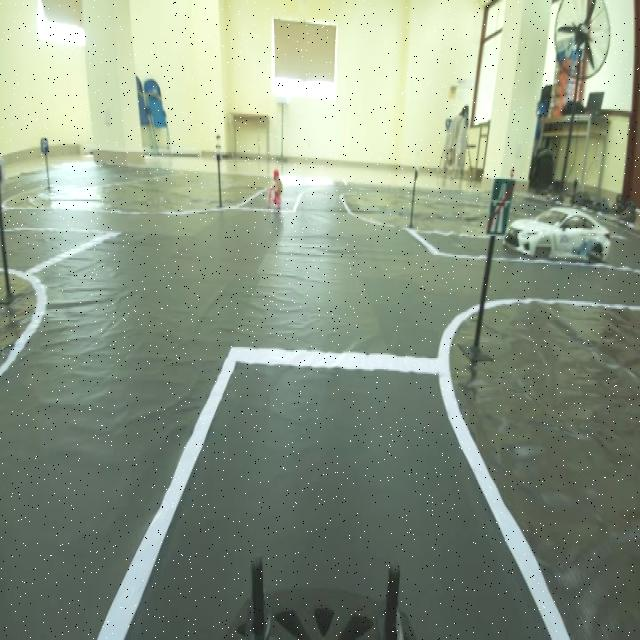highway_exit: (482, 172, 518, 241)
